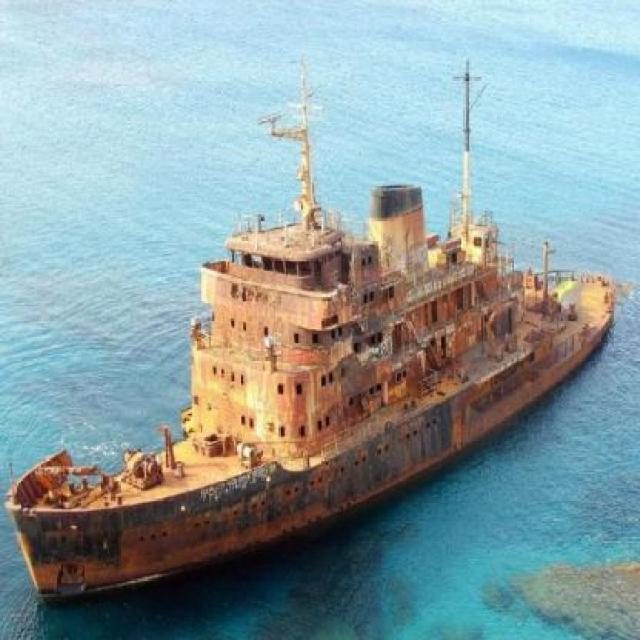corrosion: (9, 173, 616, 592)
